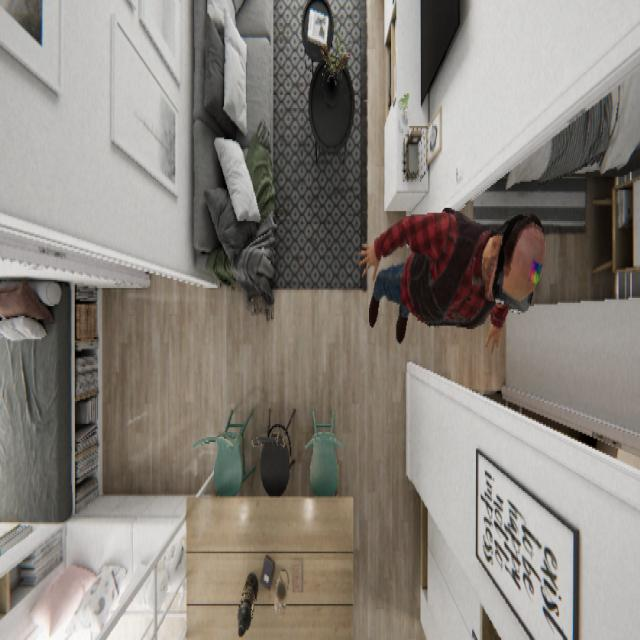Colored-Marker: (527, 255, 543, 288)
Human: (357, 205, 547, 355)
